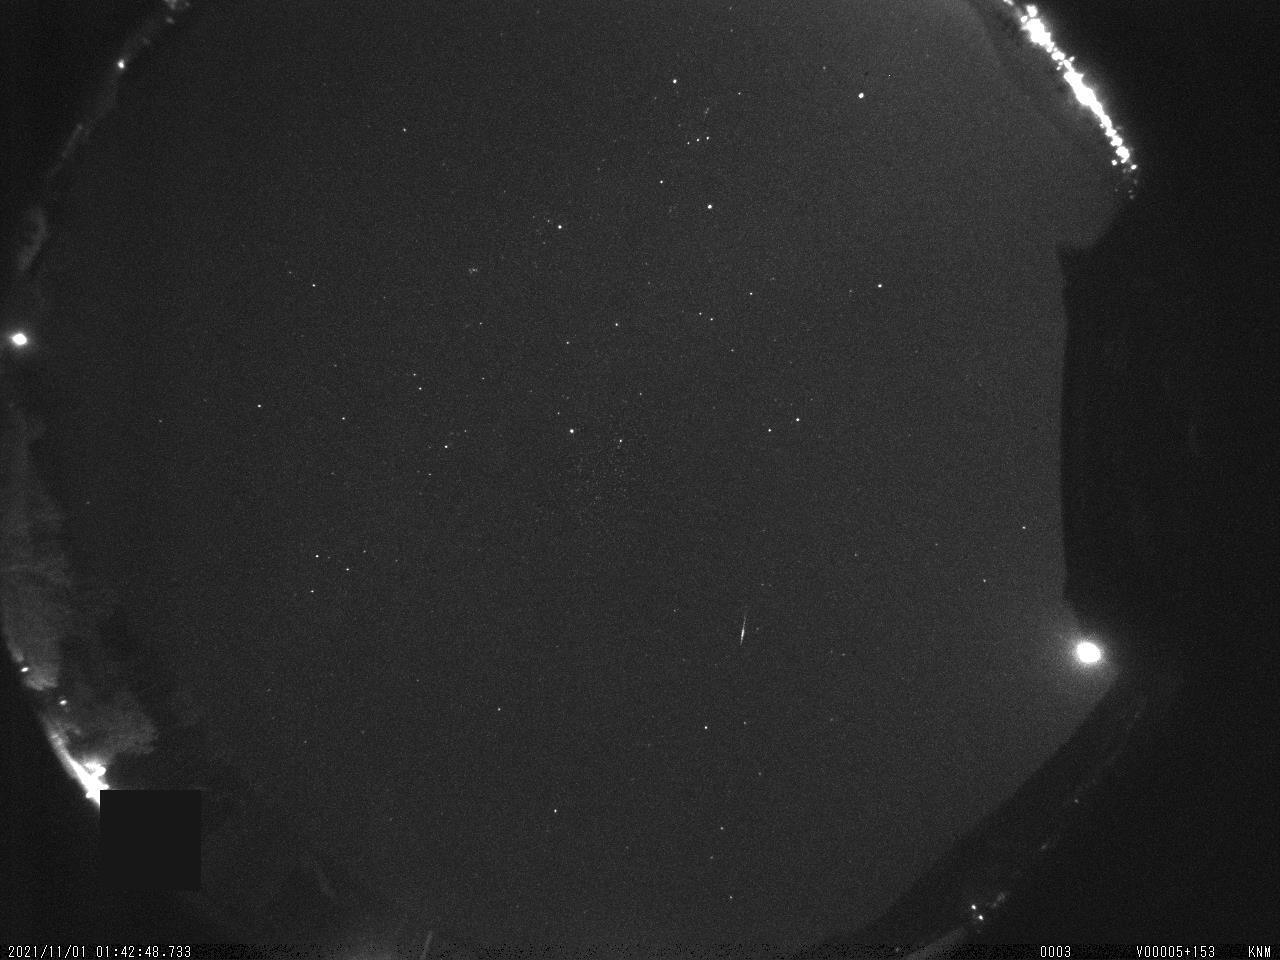Meteor: (733, 598, 752, 654)
